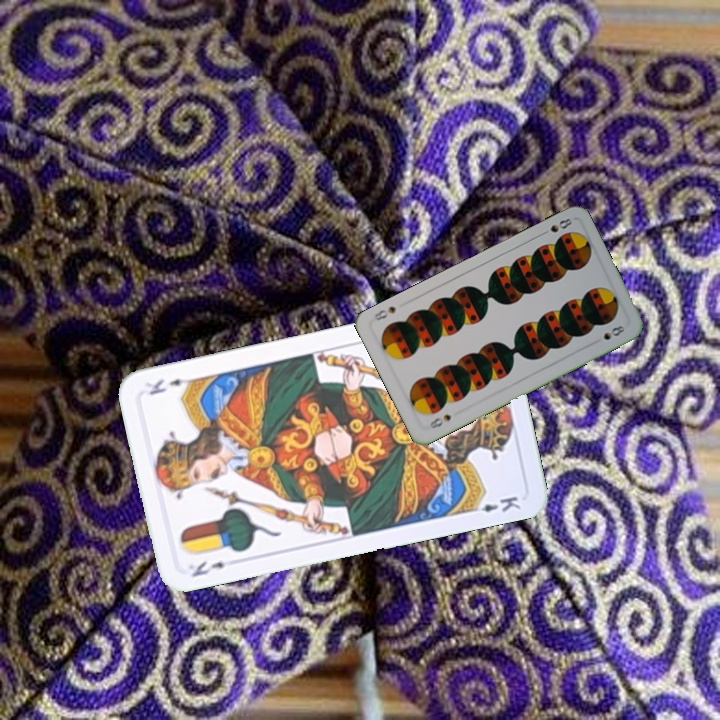EK: (187, 557, 228, 580)
S8: (536, 214, 575, 240), (424, 410, 454, 432)
